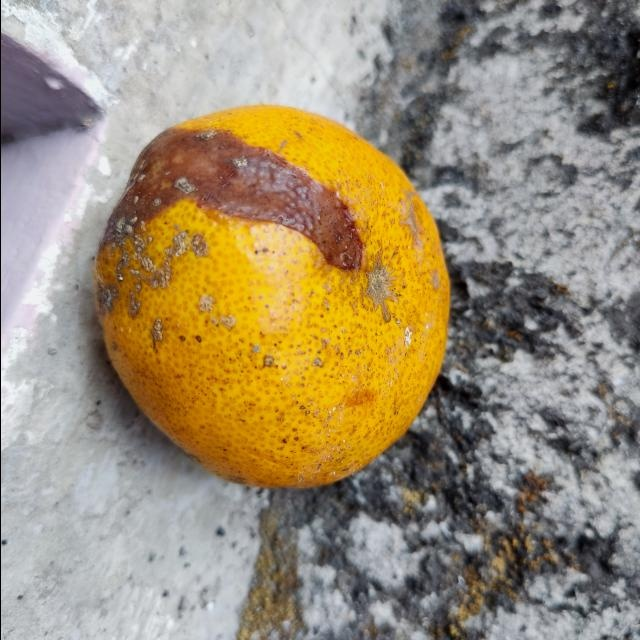agrume: (95, 102, 453, 490)
